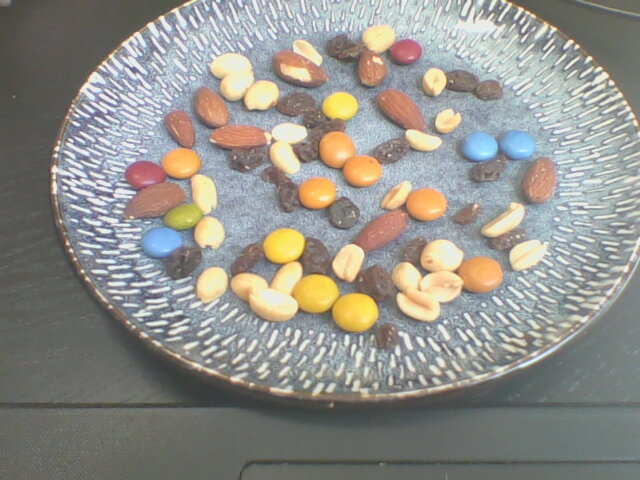almond: (350, 210, 408, 254), (124, 182, 184, 219), (377, 88, 425, 132), (272, 51, 328, 88), (521, 156, 556, 205), (209, 125, 273, 148), (194, 87, 229, 128), (165, 110, 197, 150), (359, 51, 387, 88)
mm: (332, 293, 378, 332), (294, 273, 337, 312), (459, 257, 502, 293), (264, 228, 305, 264), (405, 188, 447, 221), (320, 131, 356, 167), (343, 155, 381, 188), (161, 148, 201, 179), (141, 228, 185, 256), (300, 177, 336, 209), (125, 161, 166, 188), (321, 91, 358, 120), (463, 132, 498, 161), (165, 204, 203, 230), (386, 39, 421, 66), (500, 131, 533, 158)
peanut: (247, 287, 299, 322), (480, 202, 525, 237), (420, 239, 463, 272), (397, 290, 440, 323), (417, 272, 464, 302), (332, 244, 365, 283), (197, 266, 229, 303), (509, 240, 547, 271), (230, 272, 270, 301), (243, 80, 280, 110), (270, 261, 303, 294), (194, 216, 226, 250), (191, 174, 217, 215), (269, 142, 301, 175), (210, 53, 253, 77), (392, 262, 421, 296), (361, 24, 396, 52), (219, 74, 255, 101), (380, 180, 411, 209), (291, 39, 323, 65), (406, 129, 442, 152), (272, 122, 308, 144), (424, 67, 446, 97), (436, 108, 461, 133)
raisin: (301, 237, 331, 277), (359, 264, 392, 300), (229, 242, 262, 276), (169, 246, 202, 280), (229, 144, 269, 172), (372, 138, 409, 165), (327, 198, 359, 228), (276, 93, 316, 116), (327, 35, 361, 61), (292, 131, 321, 161), (468, 160, 506, 181), (443, 70, 478, 91), (452, 199, 479, 226), (279, 182, 300, 212), (376, 322, 397, 349), (475, 80, 501, 101), (261, 167, 293, 184), (313, 120, 344, 136), (487, 236, 517, 250), (305, 109, 328, 124)
